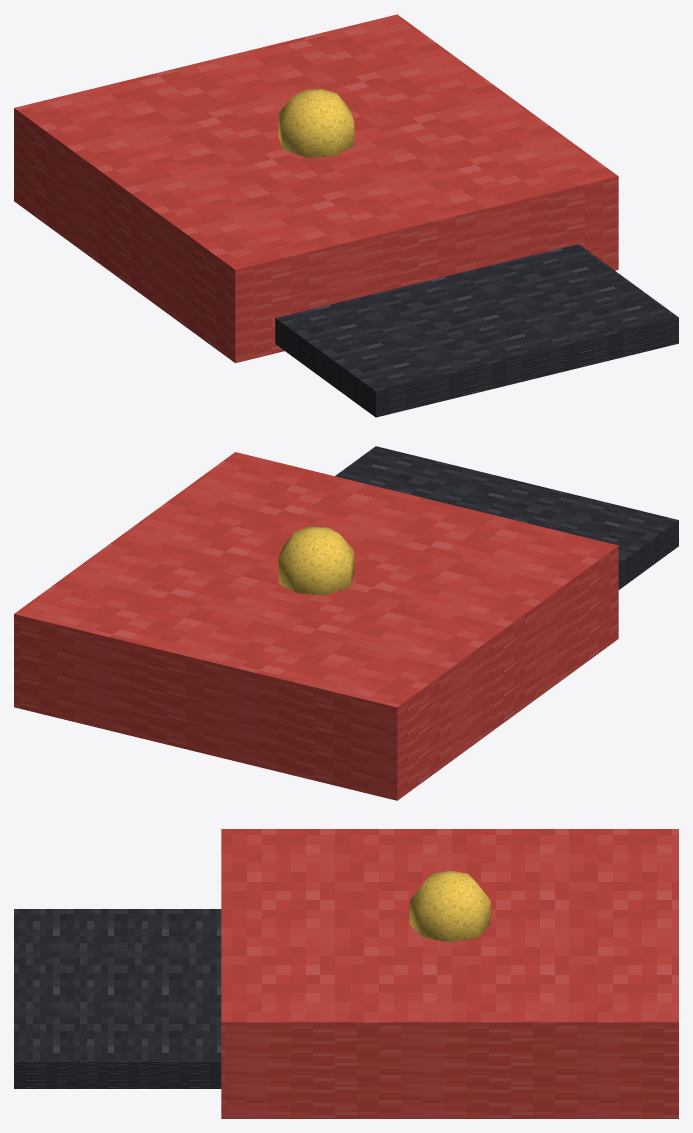
File: gorra.glb
3 views of the same model, one above another, from view 1: azimuth 30°, elevation 25°; view 2: azimuth 150°, elevation 25°; view 3: azimuth 270°, elevation 25° (orthographic). The views are drawn at different scales.
Visible parts, largest first — view 1: _MeshInstance3D_2, _MeshInstance3D_3, _MeshInstance3D_4; view 2: _MeshInstance3D_2, _MeshInstance3D_3, _MeshInstance3D_4; view 3: _MeshInstance3D_2, _MeshInstance3D_3, _MeshInstance3D_4.
Part boxes in pixels (<box>): _MeshInstance3D_2: <box>14,14,618,362</box>; _MeshInstance3D_3: <box>275,244,678,417</box>; _MeshInstance3D_4: <box>278,89,354,157</box>; _MeshInstance3D_2: <box>14,452,618,800</box>; _MeshInstance3D_3: <box>335,446,678,589</box>; _MeshInstance3D_4: <box>278,526,354,595</box>; _MeshInstance3D_2: <box>221,829,678,1118</box>; _MeshInstance3D_3: <box>14,909,221,1088</box>; _MeshInstance3D_4: <box>409,870,490,942</box>.
Bounding box in the file's own units: 0.215 × 0.077 × 0.3125.
Materials: 3 (3 with a texture image).
